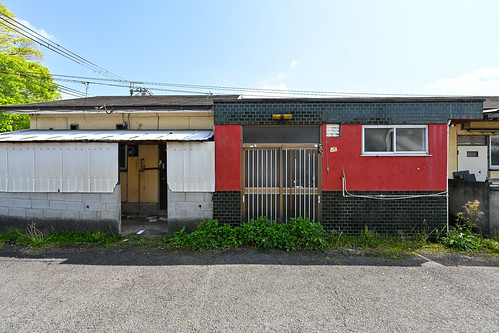medium: (1, 90, 499, 247)
